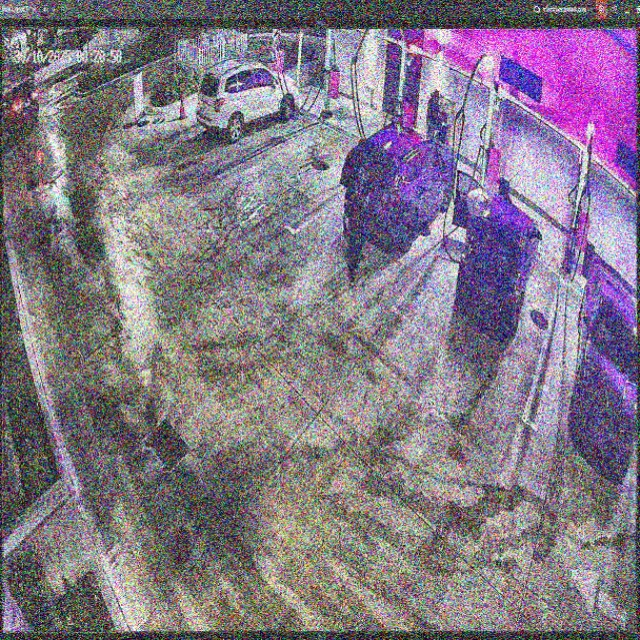Car: (457, 169, 540, 342), (343, 123, 454, 252), (197, 60, 298, 141)
